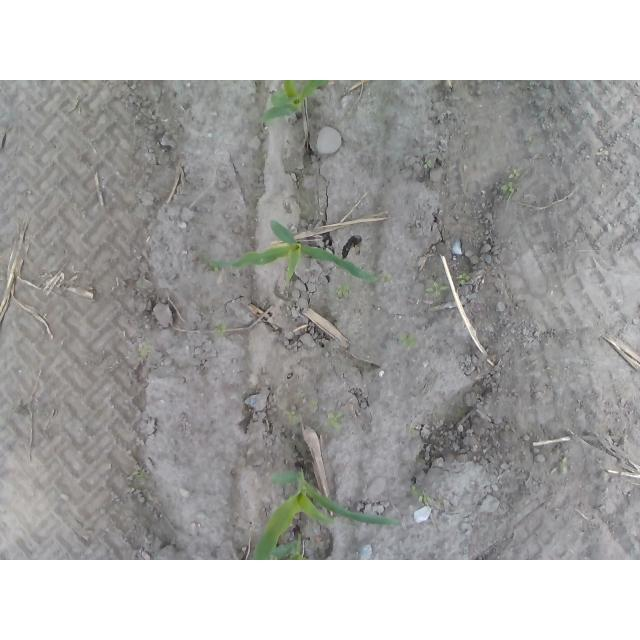Maize: (252, 462, 402, 560), (207, 218, 377, 286), (256, 80, 328, 121)
Weeds: (322, 412, 343, 433), (424, 281, 448, 297), (133, 343, 151, 358), (336, 282, 352, 298), (401, 335, 418, 350), (559, 455, 570, 474), (499, 180, 515, 193), (456, 273, 470, 286), (215, 323, 227, 337), (286, 410, 298, 423), (382, 273, 394, 284), (511, 169, 522, 180), (418, 495, 432, 503), (423, 159, 433, 169), (309, 399, 318, 409)
